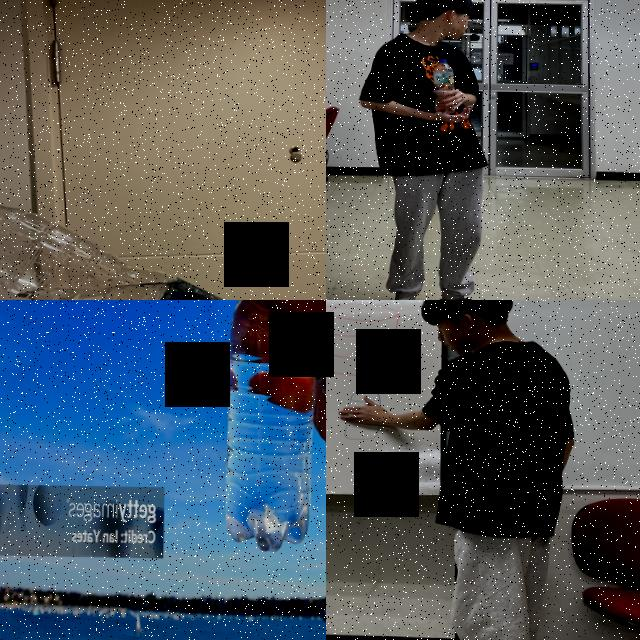bottle: (0, 201, 279, 300), (222, 300, 324, 552), (431, 58, 456, 113)
